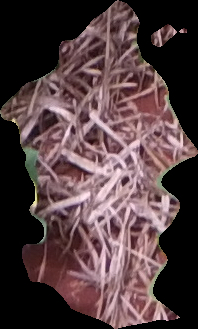soil: (2, 3, 196, 327)
